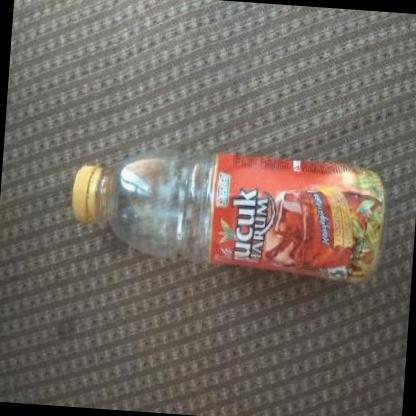plastic_bottles: (44, 130, 392, 292)
